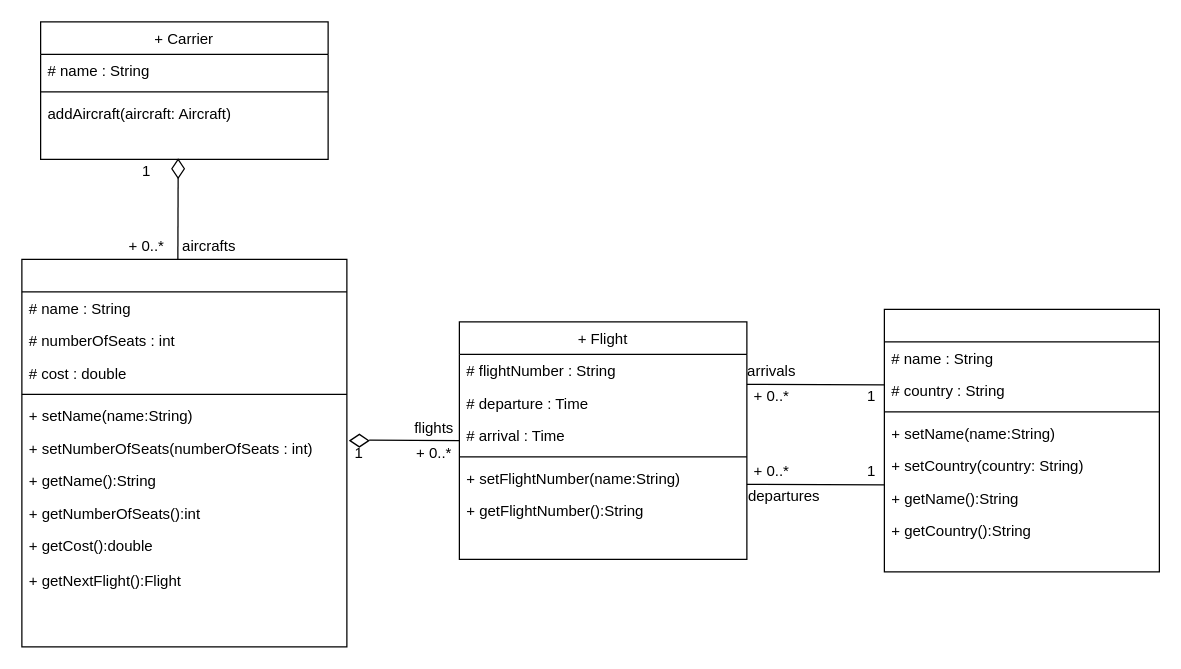
Some shapes in this 1181 by 669 pixel diagram are drawn without their labels. The box of each missing label's shape, as (x1, y1, x2, y2) in pixels:
+ Aircraft: (21, 258, 347, 647)
+ Airport: (883, 308, 1159, 572)
